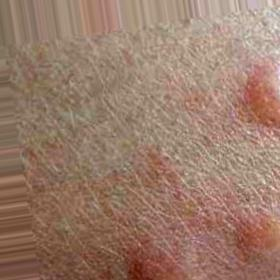Fleas: (241, 60, 279, 137), (233, 209, 278, 263), (127, 242, 187, 279)
